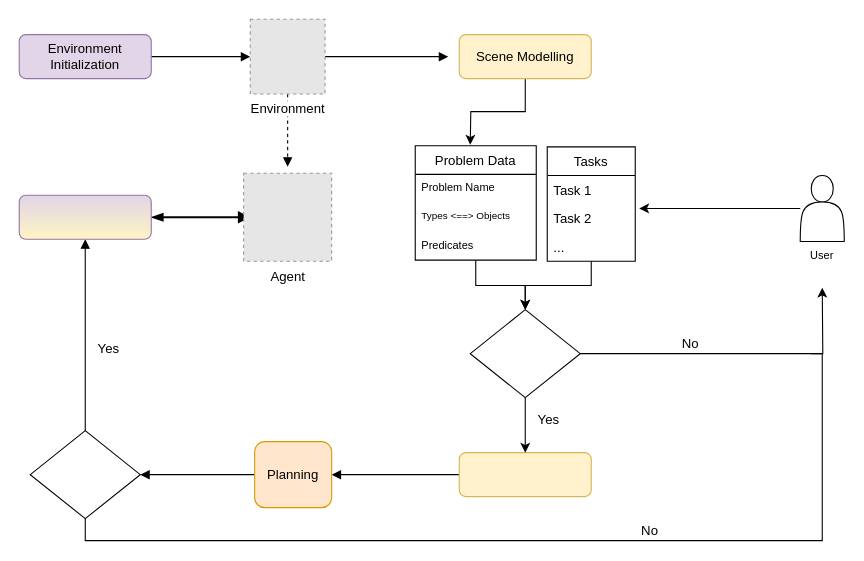
Some shapes in this 864 by 561 pixel diagram are drawn without their labels. Grey dashed boxes stand in for pictures. The centre of each missing label's shape, as x and y in pixels:
"Actions Execution" belongs at [84,216].
"Initial State Fulfilled?" belongs at [524,353].
"Problem File Creation" belongs at [524,474].
"Solvable?" belongs at [84,474].
